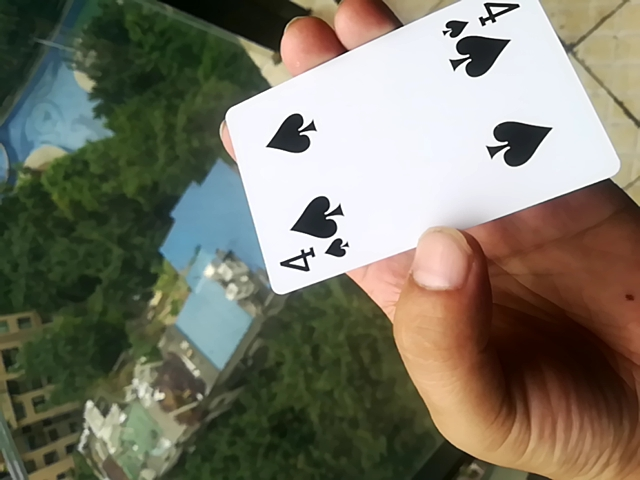ht 4: (210, 2, 625, 309)
